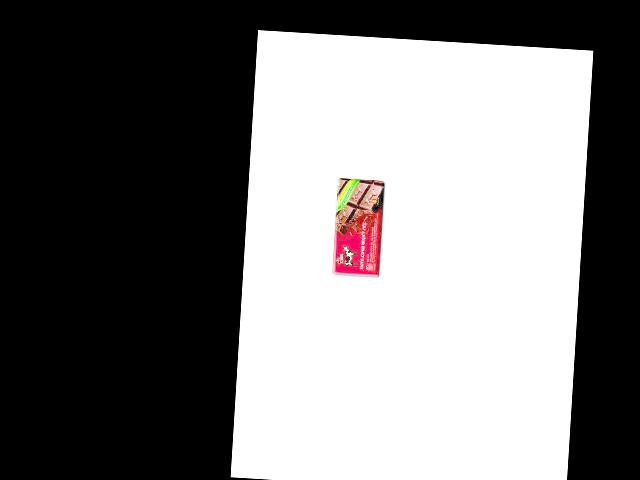chocolate: (330, 177, 389, 280)
